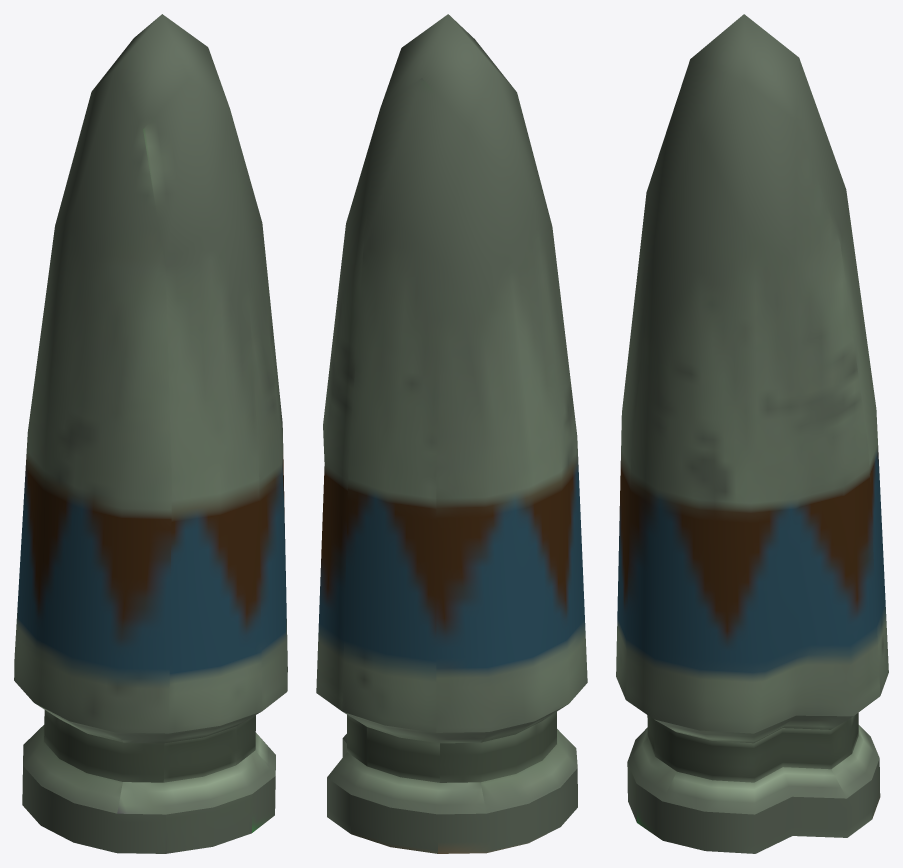
Rendered from bullet.fbx.
3 renders of one model, left to right at view 1: azimuth 30°, elevation 25°; view 2: azimuth 150°, elevation 25°; view 3: azimuth 270°, elevation 25°, orthographic.
Parts seen in each view (by area): view 1: polySurface1; view 2: polySurface1; view 3: polySurface1.
Part boxes in pixels (left/top/right/bottom): polySurface1: left=14, top=14, right=287, bottom=853; polySurface1: left=316, top=14, right=587, bottom=853; polySurface1: left=616, top=14, right=888, bottom=853.
Bounding box in the file's own units: 0.0315 × 0.1009 × 0.0315.
